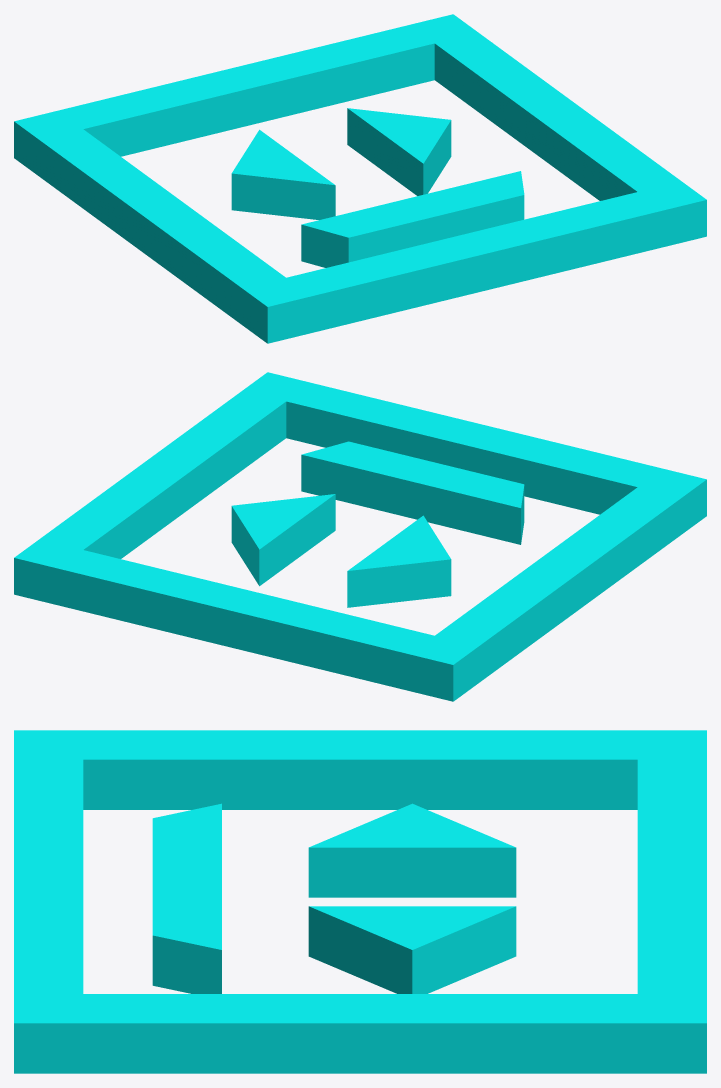
Rendered from pu_paddlePlus.fbx.
3 views of the same model, one above another, from view 1: azimuth 30°, elevation 25°; view 2: azimuth 150°, elevation 25°; view 3: azimuth 270°, elevation 25° (orthographic). The views are drawn at different scales.
Visible parts, largest first — view 1: pu_paddlePlus; view 2: pu_paddlePlus; view 3: pu_paddlePlus.
Part boxes in pixels (x1,y1,x2,y2): pu_paddlePlus: (14,14,706,343); pu_paddlePlus: (14,372,706,701); pu_paddlePlus: (14,730,706,1073).
Bounding box in the file's own units: 1 × 0.08 × 1.
